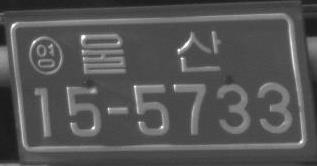-: (105, 104, 129, 115)
1: (29, 86, 60, 138)
3: (255, 80, 293, 135), (216, 82, 251, 136)
5: (65, 85, 102, 139), (133, 83, 170, 137)
7: (172, 82, 206, 136)
영: (28, 35, 63, 75)
울산_D: (79, 31, 222, 75)
